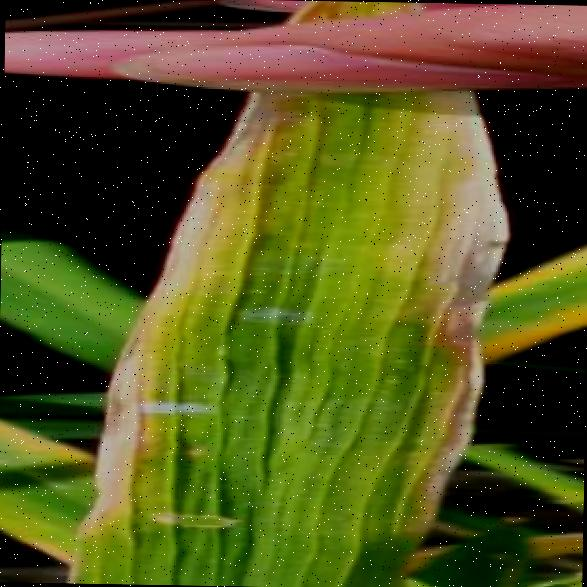Bacteria_Leaf_Blight: (135, 87, 506, 587)
